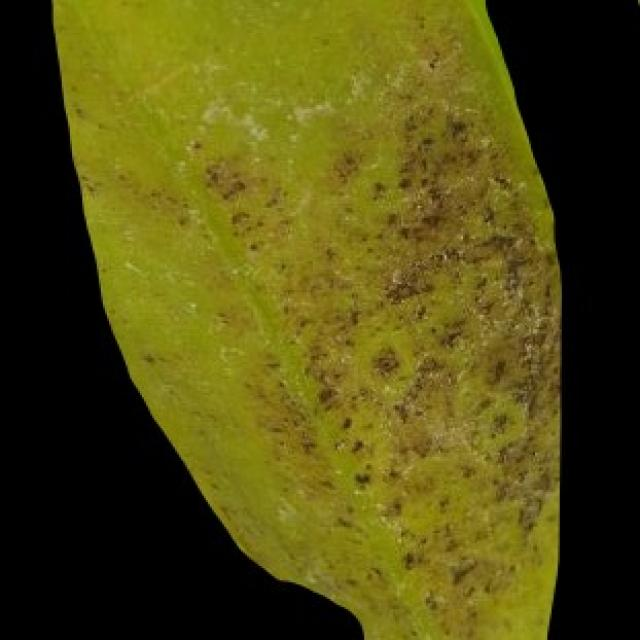mite: (187, 107, 537, 570), (358, 327, 414, 389), (370, 346, 399, 379), (350, 463, 375, 488), (352, 469, 370, 486), (337, 414, 352, 430), (621, 0, 638, 8), (632, 0, 638, 10)
spots: (45, 0, 564, 638)
